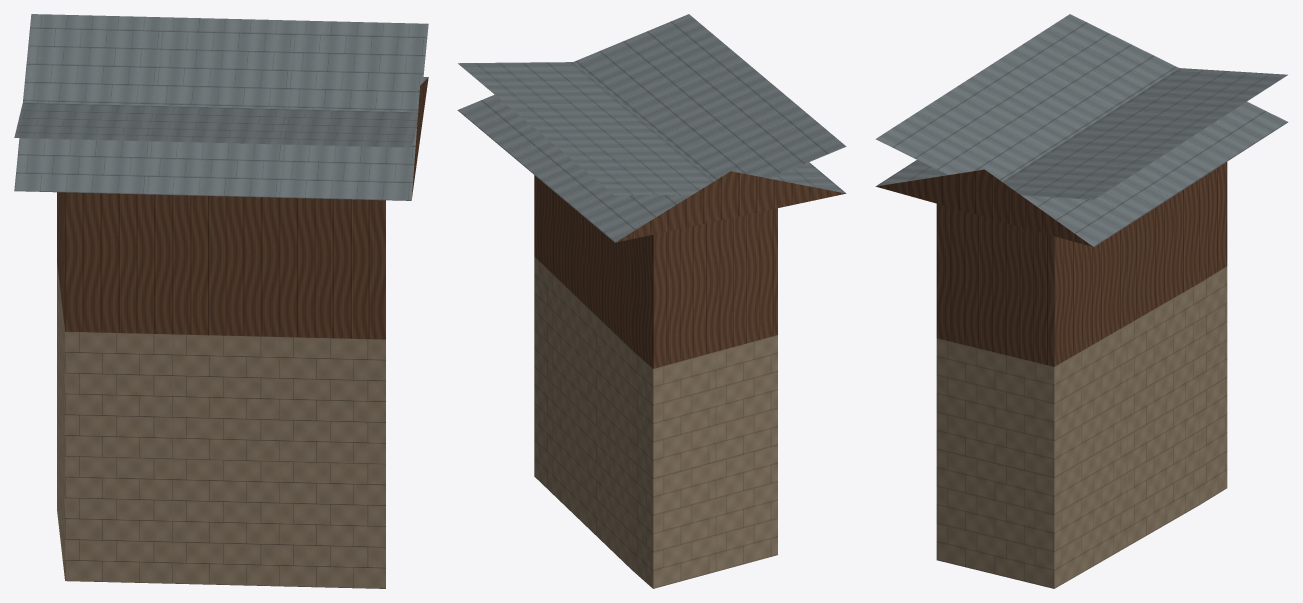
Rendered from bld_c10_28_397.gltf.
3 views of the same model, side by side, from view 1: azimuth 30°, elevation 25°; view 2: azimuth 150°, elevation 25°; view 3: azimuth 270°, elevation 25° (orthographic). The views are drawn at different scales.
Parts seen in each view (by area): view 1: bld_c10_28_397; view 2: bld_c10_28_397; view 3: bld_c10_28_397.
Part boxes in pixels (<box>): bld_c10_28_397: <box>14,14,428,588</box>; bld_c10_28_397: <box>457,14,846,588</box>; bld_c10_28_397: <box>875,14,1288,588</box>.
Size of the model in its own units: 8.41 by 8.8 by 7.9.
4 materials, 4 textured.
